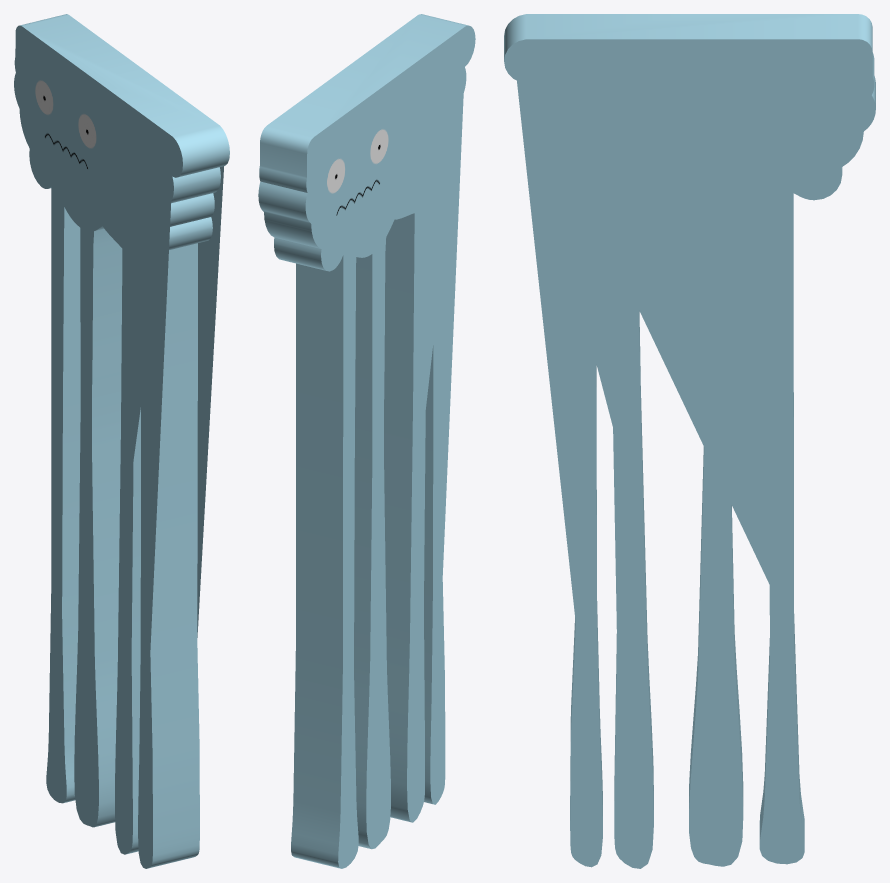
Rendered from sadcloud_fbx.fbx.
The picture shows the model from 3 angles, left to right: view 1: azimuth 30°, elevation 25°; view 2: azimuth 150°, elevation 25°; view 3: azimuth 270°, elevation 25°; orthographic projection. The views are drawn at different scales.
Visible parts, largest first — view 1: sadcloud; view 2: sadcloud; view 3: sadcloud.
Part boxes in pixels (x1=…): sadcloud: x1=14, y1=14, x2=229, y2=868; sadcloud: x1=258, y1=14, x2=475, y2=868; sadcloud: x1=504, y1=14, x2=875, y2=868.
Size of what is drawn, in the model's own units: 40.48 by 621 by 252.
